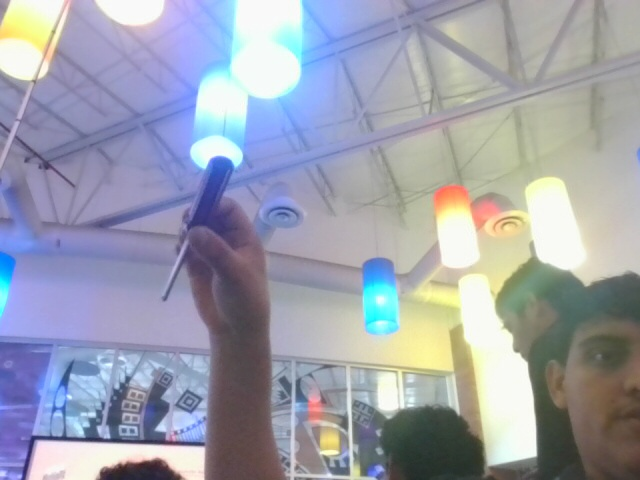destornillador: (151, 152, 237, 305)
